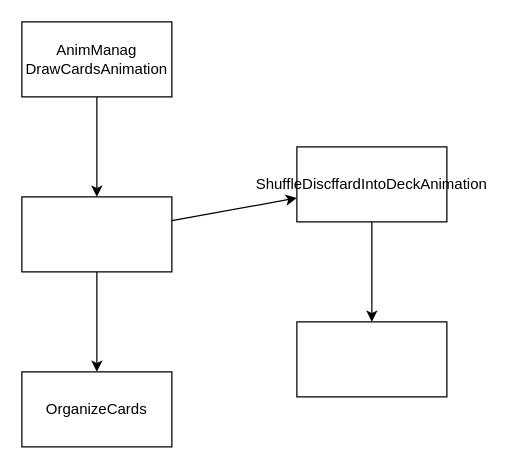
This 509x469 diagram has some shape labels left out. The centre of each missing label's shape, as x and y in pixels:
"DrawCards" goes at [96,234].
"SimpleTranslate" goes at [371,359].
